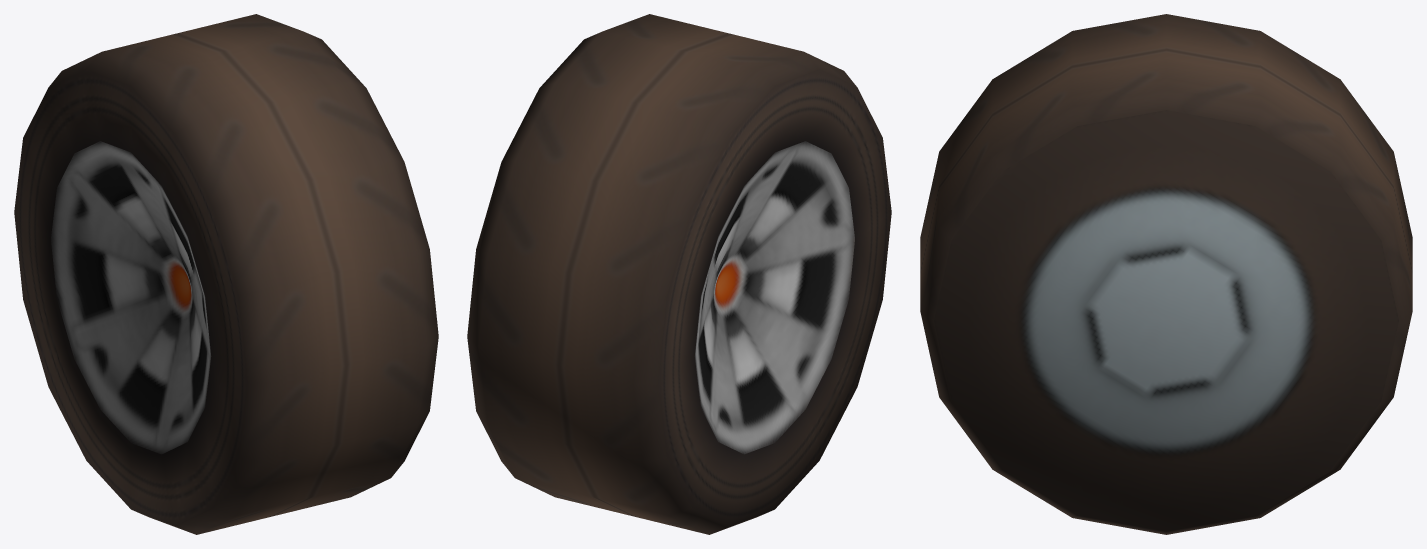
Rendered from rear-left.glb.
3 views of the same model, side by side, from view 1: azimuth 30°, elevation 25°; view 2: azimuth 150°, elevation 25°; view 3: azimuth 270°, elevation 25° (orthographic).
Bounding box in the file's own units: 0.1824 × 0.4091 × 0.4091.
Materials: 1 (1 with a texture image).
